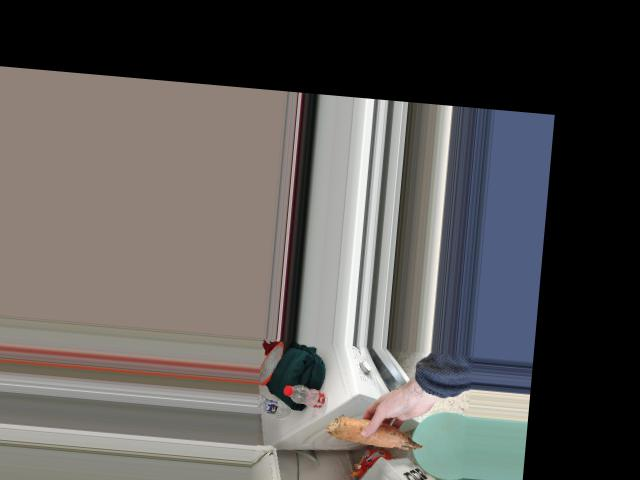sweet_potato: (321, 418, 425, 448)
